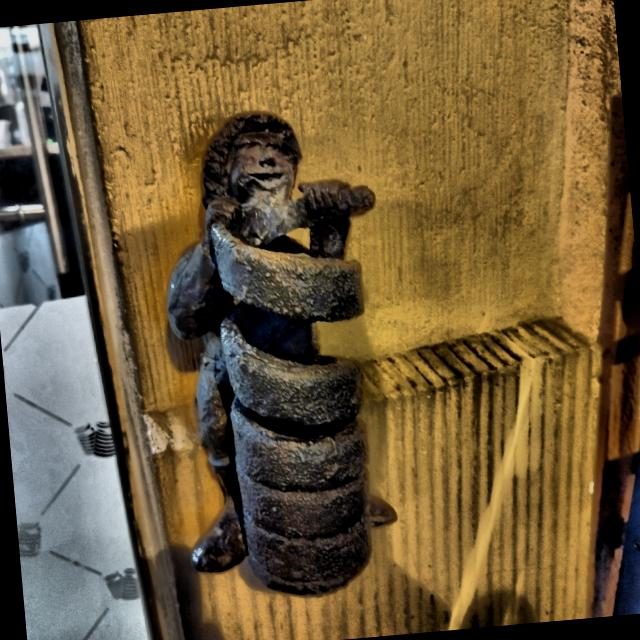Czimnejek: (137, 85, 416, 628)
